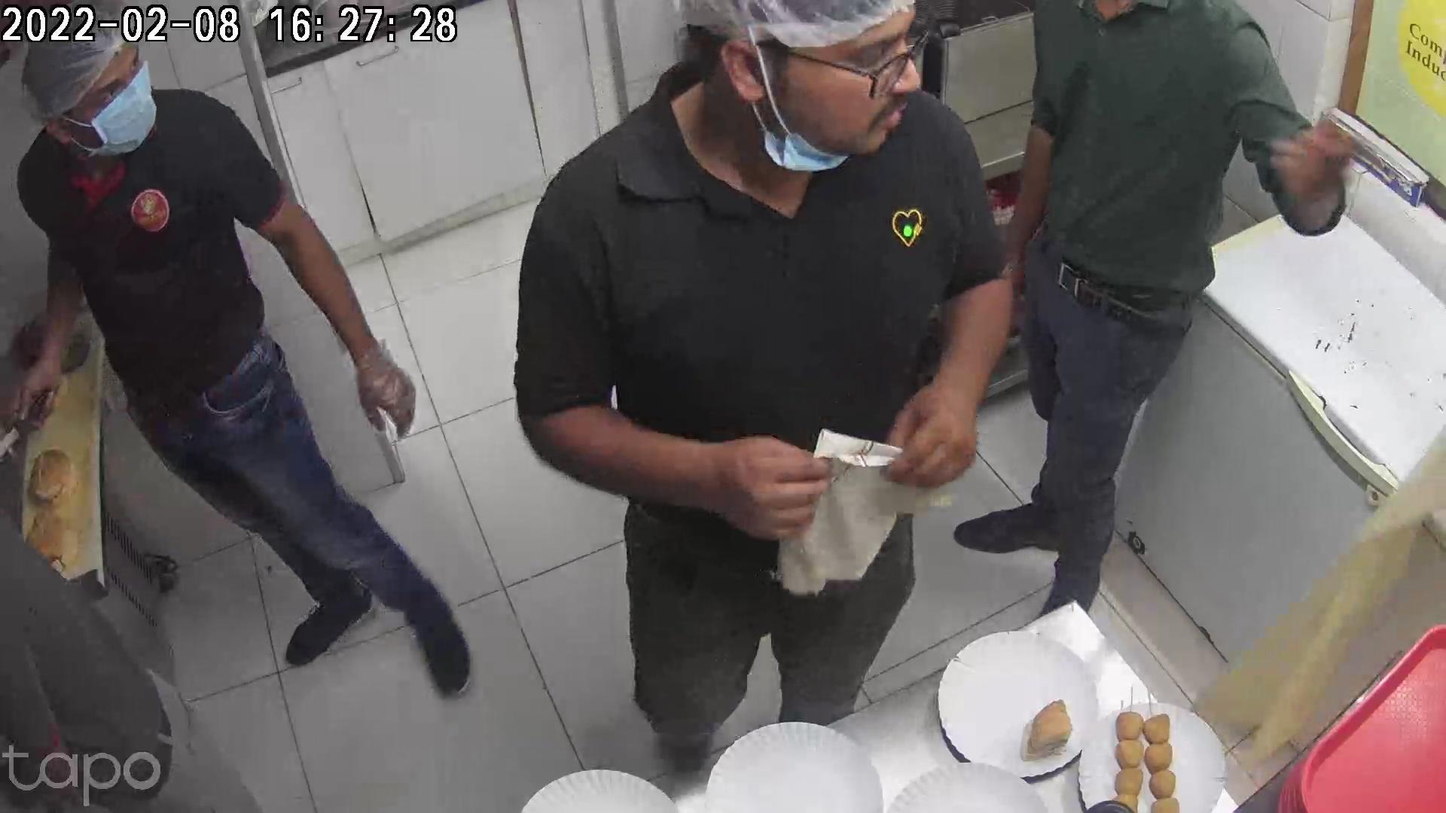gloves: (341, 327, 419, 435)
no_gloves: (654, 435, 817, 534)
